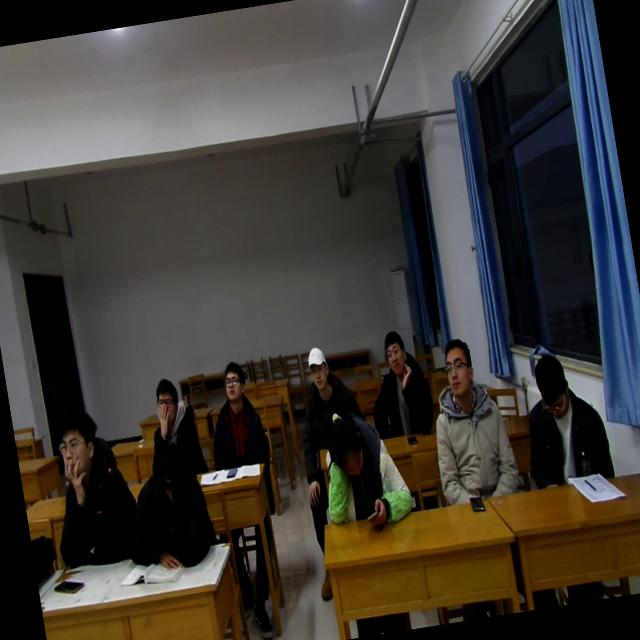bow: (108, 434, 225, 582), (311, 398, 418, 538)
down: (322, 411, 370, 486), (530, 345, 576, 423)
lookup: (45, 401, 108, 498), (436, 331, 480, 402), (148, 372, 186, 434), (376, 326, 412, 380), (302, 336, 334, 394), (217, 353, 249, 408)
sit: (416, 326, 524, 512), (35, 398, 144, 572), (513, 343, 618, 494), (358, 320, 438, 446), (196, 351, 273, 472), (286, 338, 366, 453), (134, 369, 212, 486)
